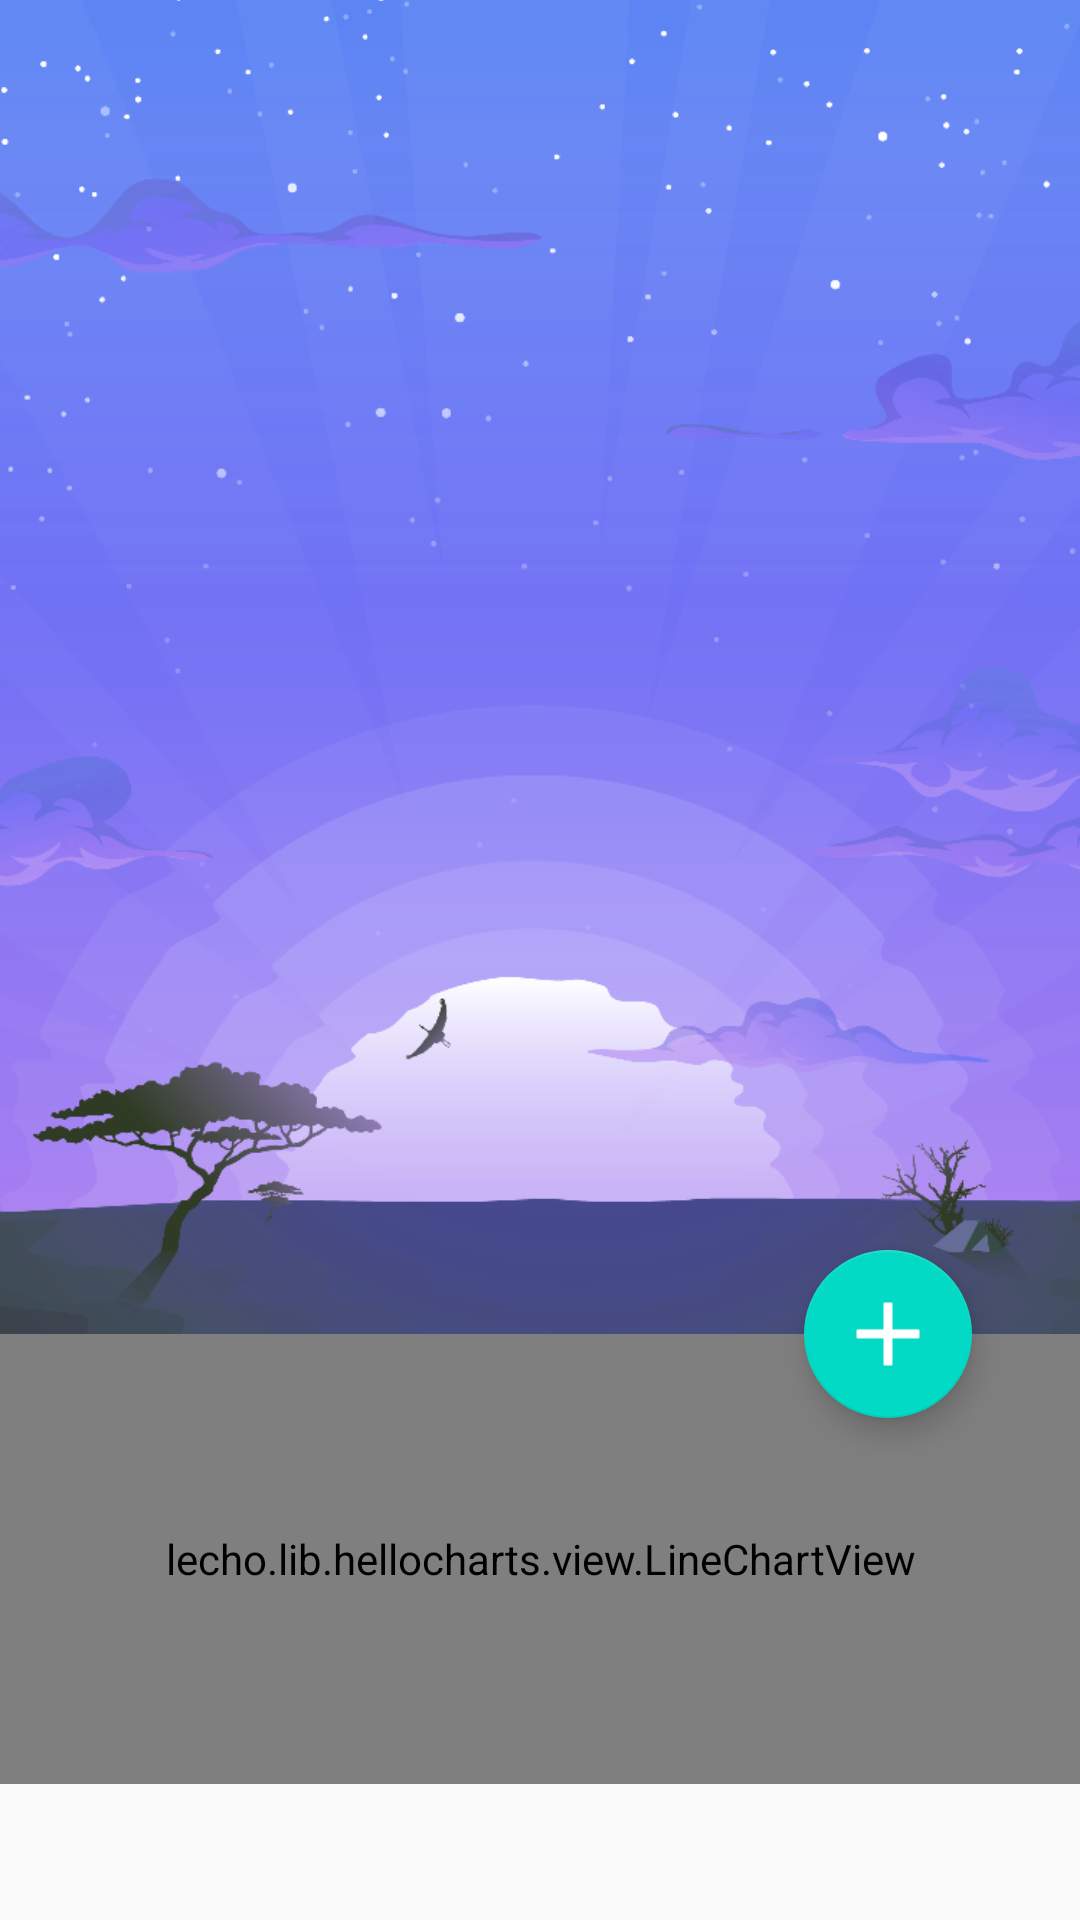

Where to tap for icons on this 1080×1920 app screen, as (x=x, y=y):
add city: (x=888, y=1334)
